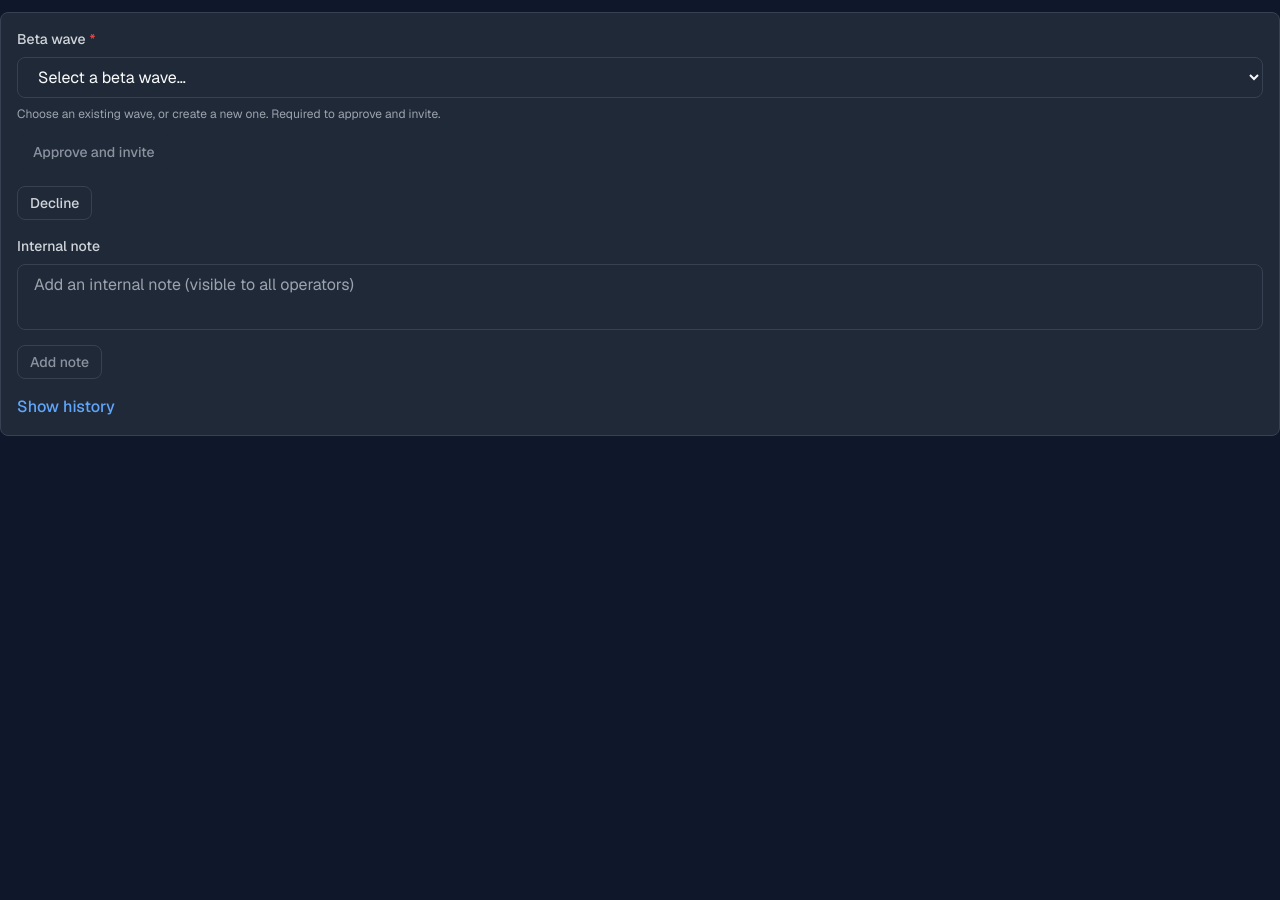
AccessRequestActionsPanel — approve and invite › shows the conflict-recovery banner on CONVERSION_BLOCKED and lets the operator refresh the baseline
Select "Wave 1" in the dropdown with test id "ar_1-wave-select" at (640, 78), box [17,57,1263,98]
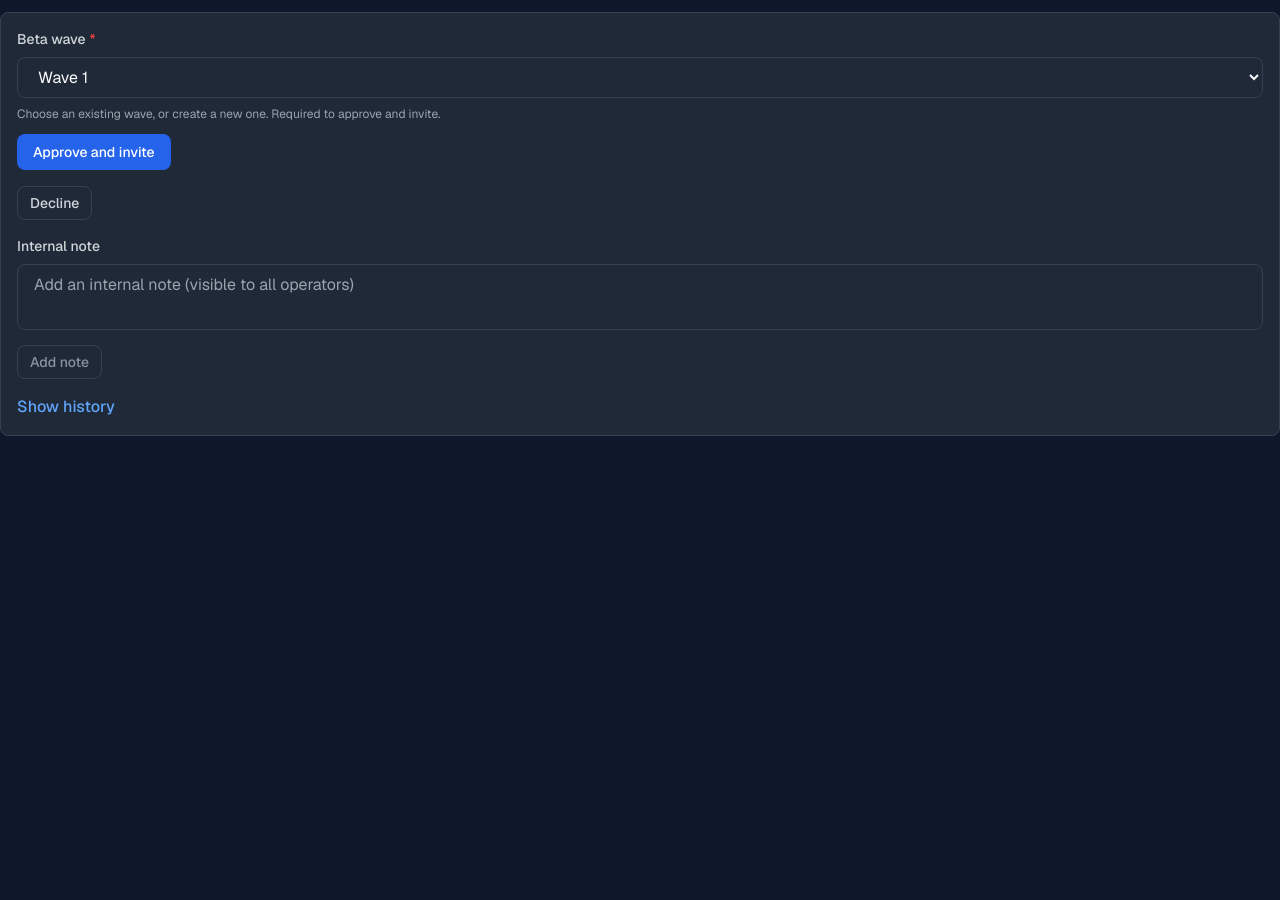
Click the button "Approve and invite".
click(94, 152)  # box [17,134,171,170]
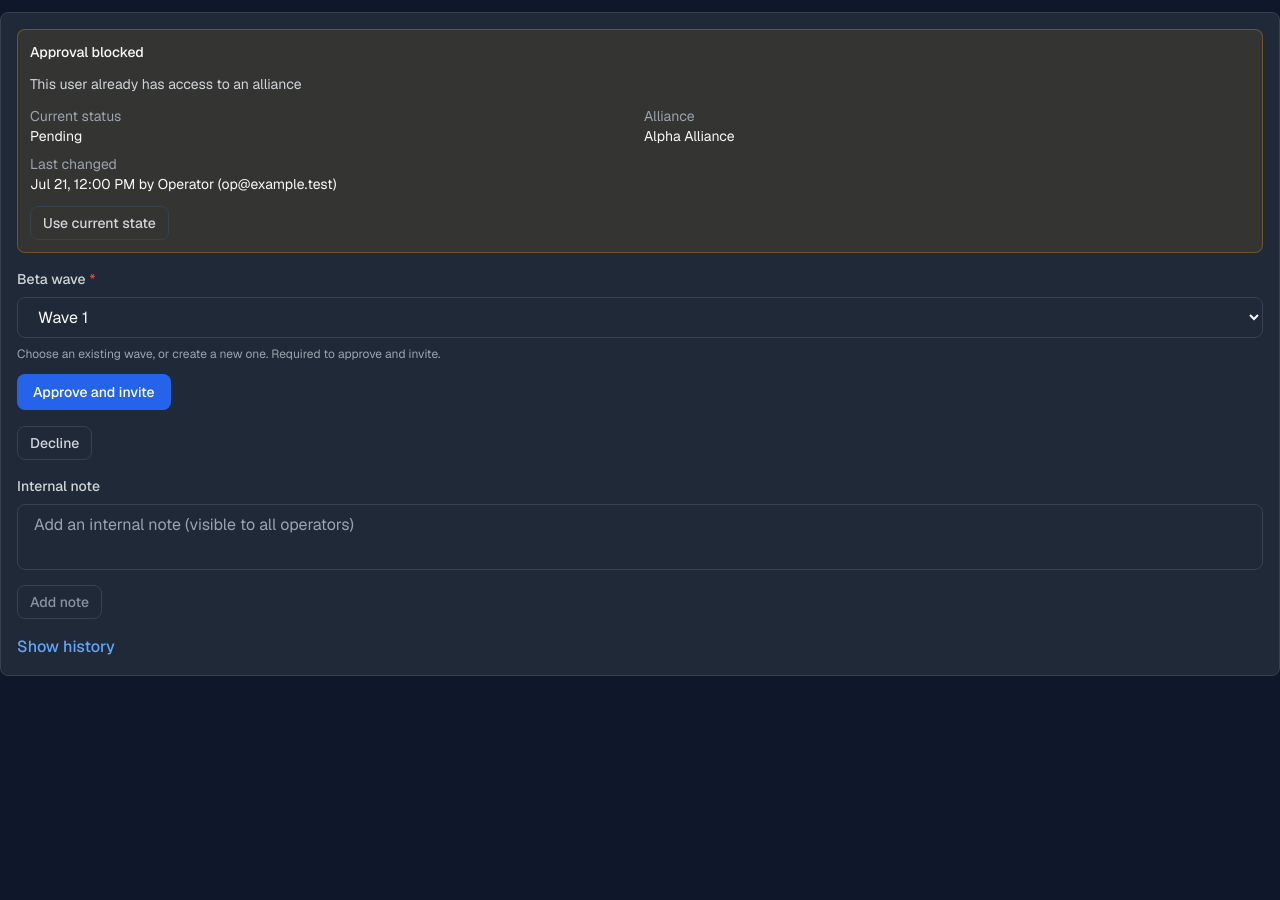
Expected: the message with test id "access-request-conflict-recovery" is shown, [17,29,1263,253]
Expected: the message with test id "access-request-conflict-recovery" shows "Approval blocked", [30,43,144,61]
Expected: the message with test id "access-request-conflict-recovery" shows "Alpha Alliance", [644,127,735,145]
Click the button "Use current state".
click(99, 223)  # box [30,206,169,240]
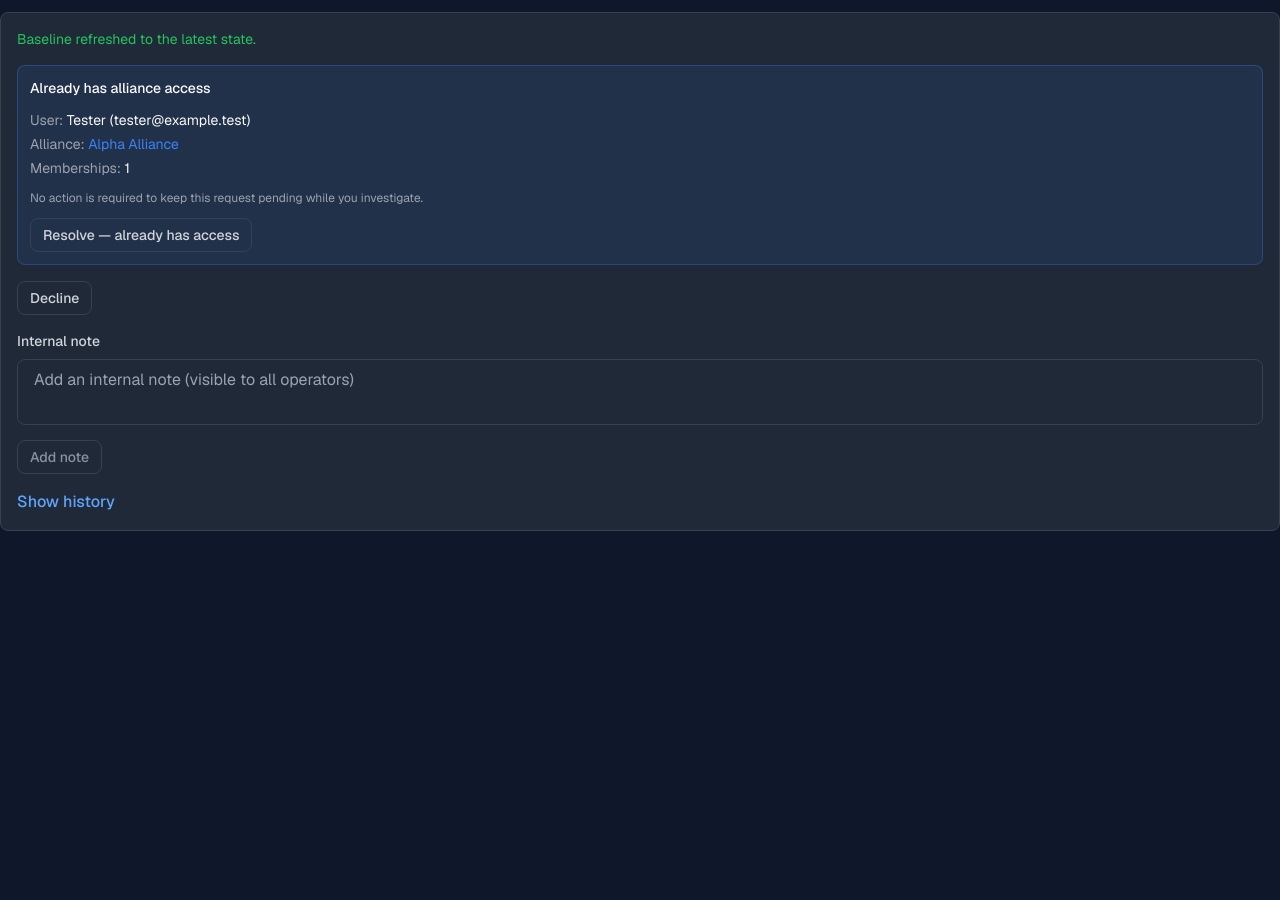
Expected: the message with test id "access-request-conflict-recovery" is gone
Expected: the element with test id "access-request-existing-access" is shown, [17,65,1263,265]
